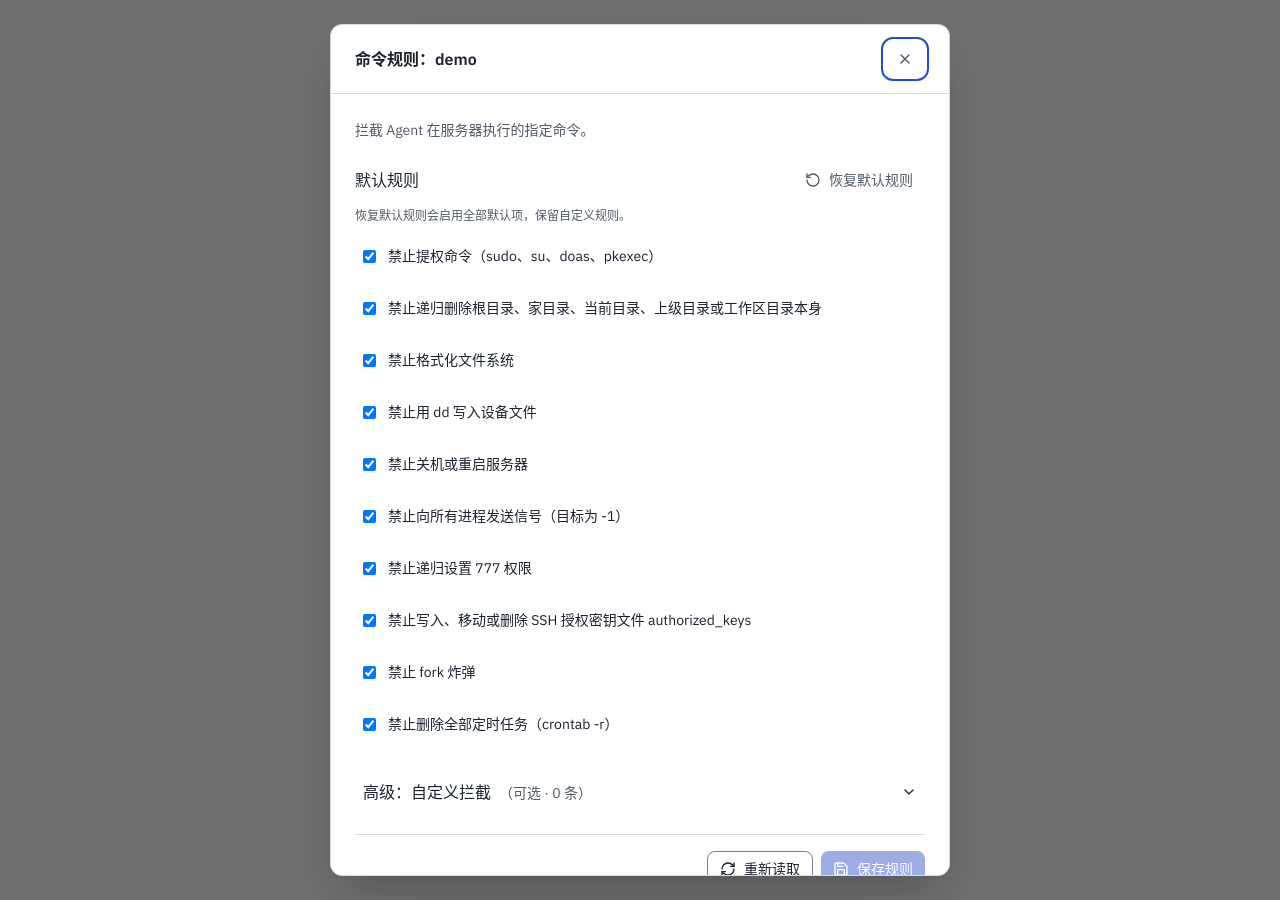
默认规则保持启用，自定义空列表默认折叠且可选，教程不自动追加规则
expect the button "追加规则" is not shown: met
Click the button "高级：自定义拦截（可选 · 0 条）". click: click(427, 792)
box: x1=355 y1=770 x2=925 y2=814
(page scrolled)
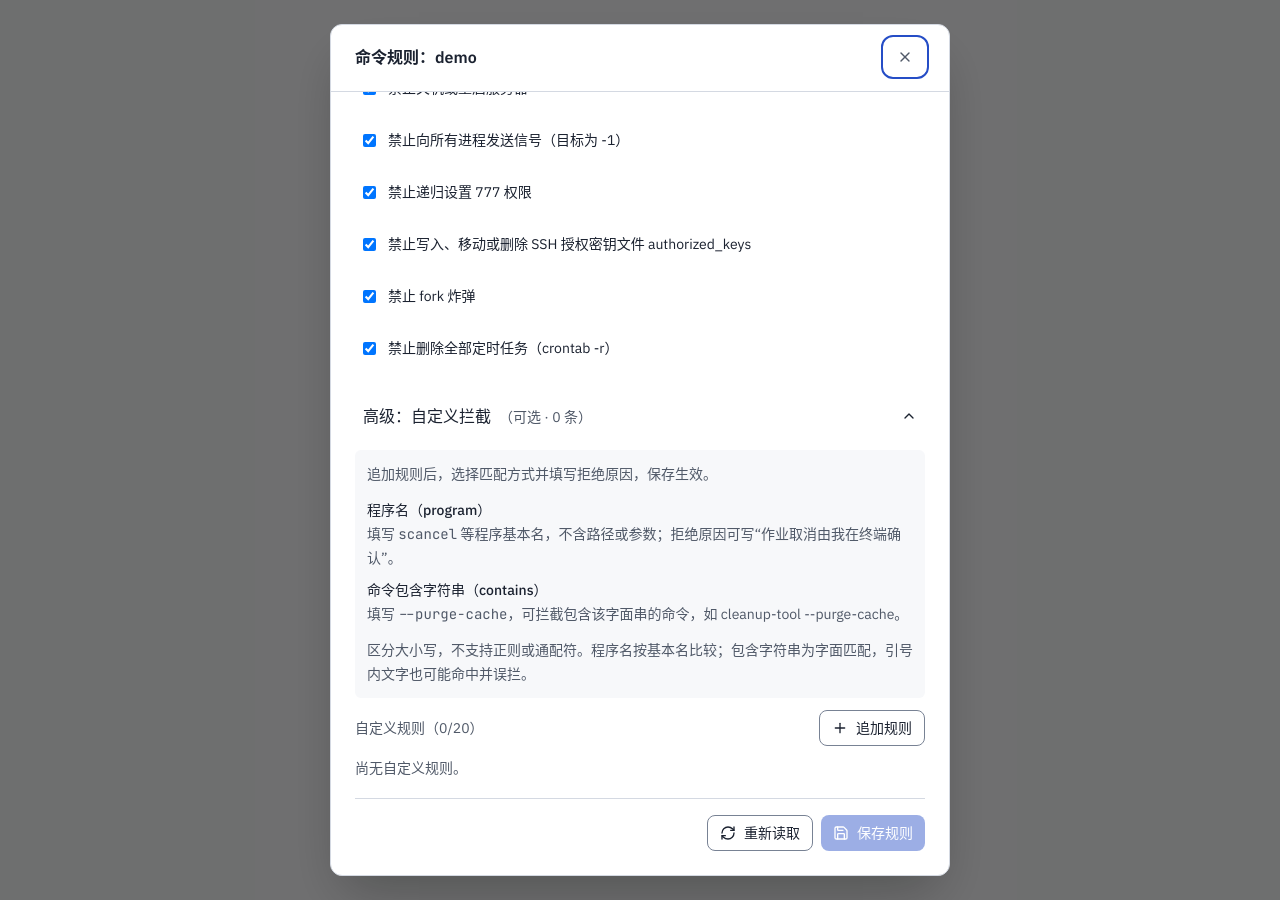
expect the text "scancel" is shown: met, box x1=398 y1=525 x2=457 y2=543
expect the text "--purge-cache" is shown: met, box x1=398 y1=605 x2=508 y2=623
expect the text "区分大小写，不支持正则或通配符。程序名按基本名比较；包含字符串为字面匹配，引号内文字也可能命中并误拦。" is shown: met, box x1=367 y1=638 x2=913 y2=686
